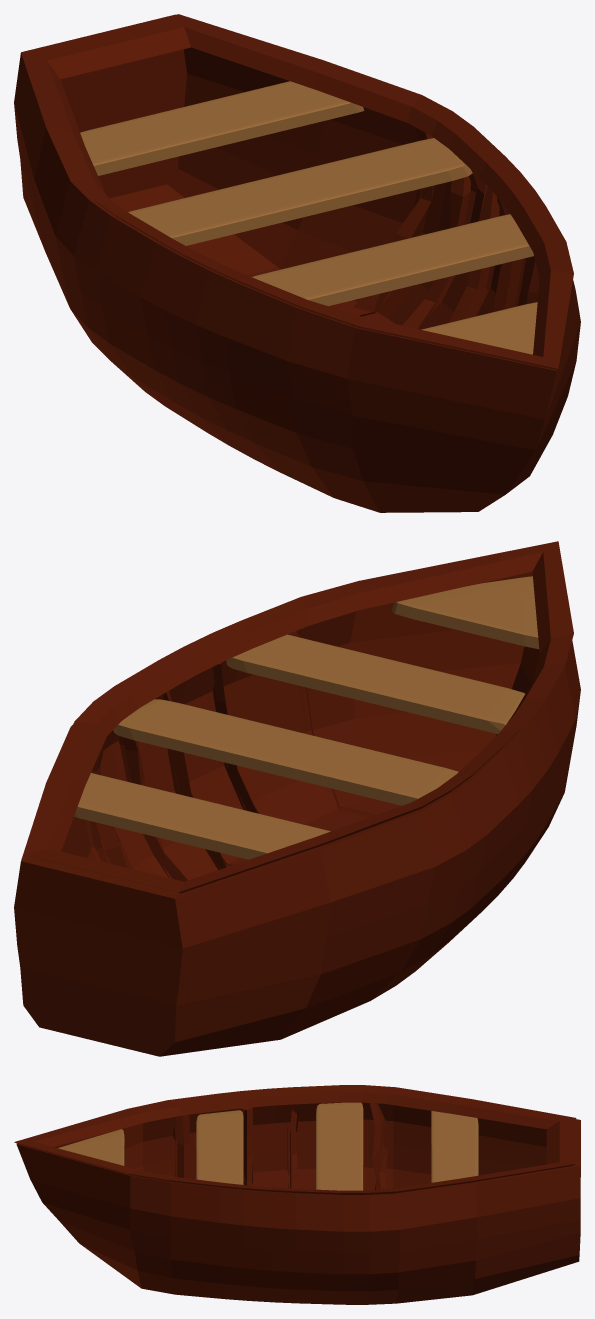
Rendered from Boat.fbx.
3 renders of one model, top to bottom at view 1: azimuth 30°, elevation 25°; view 2: azimuth 150°, elevation 25°; view 3: azimuth 270°, elevation 25°, orthographic. The views are drawn at different scales.
Parts seen in each view (by area): view 1: boat main shape, Cube.003, boat main shape.002, boat main shape.001; view 2: boat main shape, Cube.003, boat main shape.002, boat back, boat main shape.001; view 3: boat main shape, boat main shape.002, Cube.003, boat main shape.001.
Part boxes in pixels (bbox=[...]): boat main shape: bbox=[14, 14, 580, 512]; Cube.003: bbox=[80, 81, 537, 354]; boat main shape.002: bbox=[25, 14, 573, 369]; boat main shape.001: bbox=[342, 127, 539, 329]; boat main shape: bbox=[21, 571, 580, 1056]; Cube.003: bbox=[74, 576, 539, 859]; boat main shape.002: bbox=[25, 541, 573, 893]; boat back: bbox=[14, 861, 182, 1056]; boat main shape.001: bbox=[90, 631, 375, 881]; boat main shape: bbox=[16, 1102, 580, 1304]; boat main shape.002: bbox=[14, 1085, 576, 1194]; Cube.003: bbox=[58, 1102, 478, 1190]; boat main shape.001: bbox=[173, 1102, 387, 1189].
Size of the model in its own units: 276 by 140 by 561.
